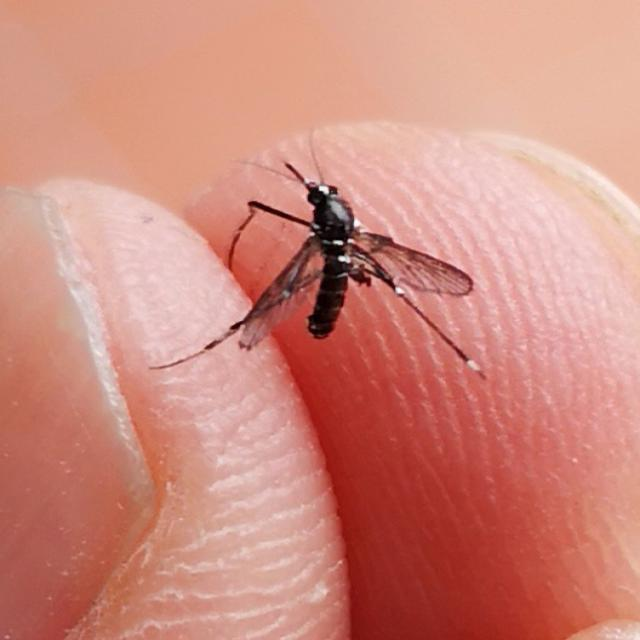albopictus: (160, 128, 488, 391)
